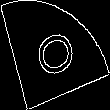O_W: (30, 26, 80, 83)
